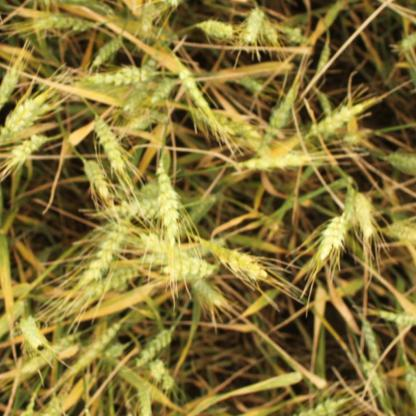whd: (55, 322, 121, 387), (196, 238, 269, 282), (82, 224, 130, 285), (137, 234, 227, 266), (120, 58, 162, 113), (21, 332, 78, 372), (262, 83, 297, 146), (90, 117, 128, 171), (176, 63, 213, 118), (1, 96, 46, 141), (156, 161, 180, 244), (196, 109, 261, 139), (308, 103, 365, 137), (85, 265, 140, 297), (136, 329, 173, 368), (316, 216, 348, 261), (238, 153, 313, 172), (87, 66, 158, 86), (294, 394, 356, 416), (347, 187, 374, 236), (8, 133, 48, 166), (138, 232, 187, 258), (104, 197, 158, 219), (159, 258, 216, 278), (358, 356, 385, 398), (0, 60, 22, 110), (190, 277, 224, 308), (82, 161, 110, 198), (91, 37, 125, 67), (36, 16, 94, 33), (15, 315, 44, 349), (184, 192, 213, 226), (195, 15, 234, 40), (360, 314, 380, 362), (240, 125, 269, 156), (242, 8, 266, 44), (150, 79, 178, 106), (382, 152, 416, 174), (378, 308, 416, 327), (342, 188, 360, 227), (379, 222, 415, 240), (404, 354, 416, 405), (284, 26, 308, 46), (20, 392, 40, 416), (137, 386, 153, 416), (399, 26, 416, 54), (141, 2, 156, 32), (316, 44, 332, 72), (315, 89, 332, 115), (40, 396, 62, 416), (240, 73, 263, 92), (399, 71, 416, 96), (105, 340, 124, 360), (264, 18, 278, 44), (259, 214, 279, 232), (149, 360, 165, 381), (130, 113, 149, 130), (145, 109, 168, 123), (92, 2, 115, 16), (160, 370, 175, 390), (140, 183, 158, 198), (344, 131, 360, 144), (165, 0, 180, 7)
